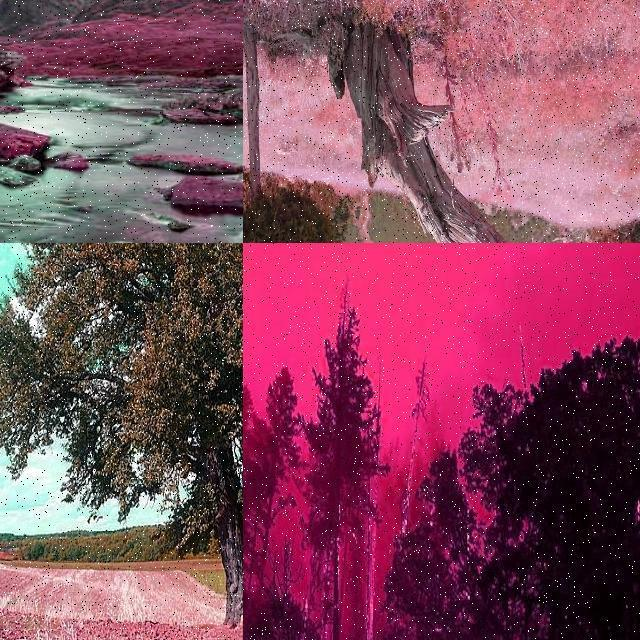tree: (0, 243, 244, 629), (492, 344, 640, 640), (418, 383, 528, 640), (312, 280, 383, 640), (242, 23, 338, 243), (243, 243, 296, 640), (1, 0, 180, 114), (243, 368, 283, 610), (244, 347, 268, 573), (242, 117, 286, 233), (243, 214, 259, 242), (243, 214, 257, 242)
